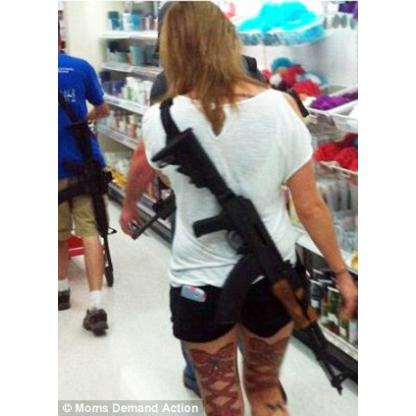gun: (156, 125, 350, 399), (57, 118, 117, 282)
